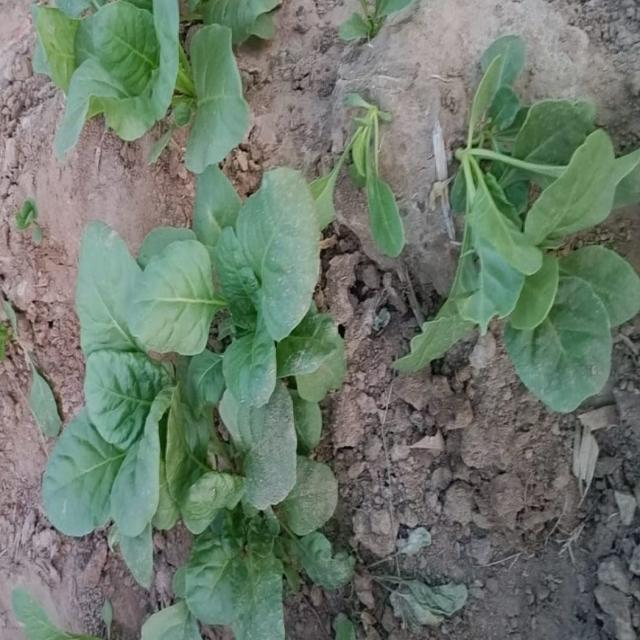plant: (34, 0, 405, 638), (395, 37, 640, 412)
